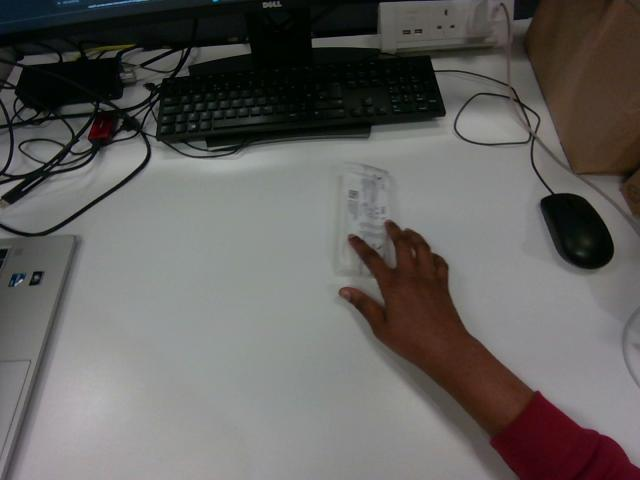syringe: (335, 163, 391, 275), (622, 307, 639, 387)
